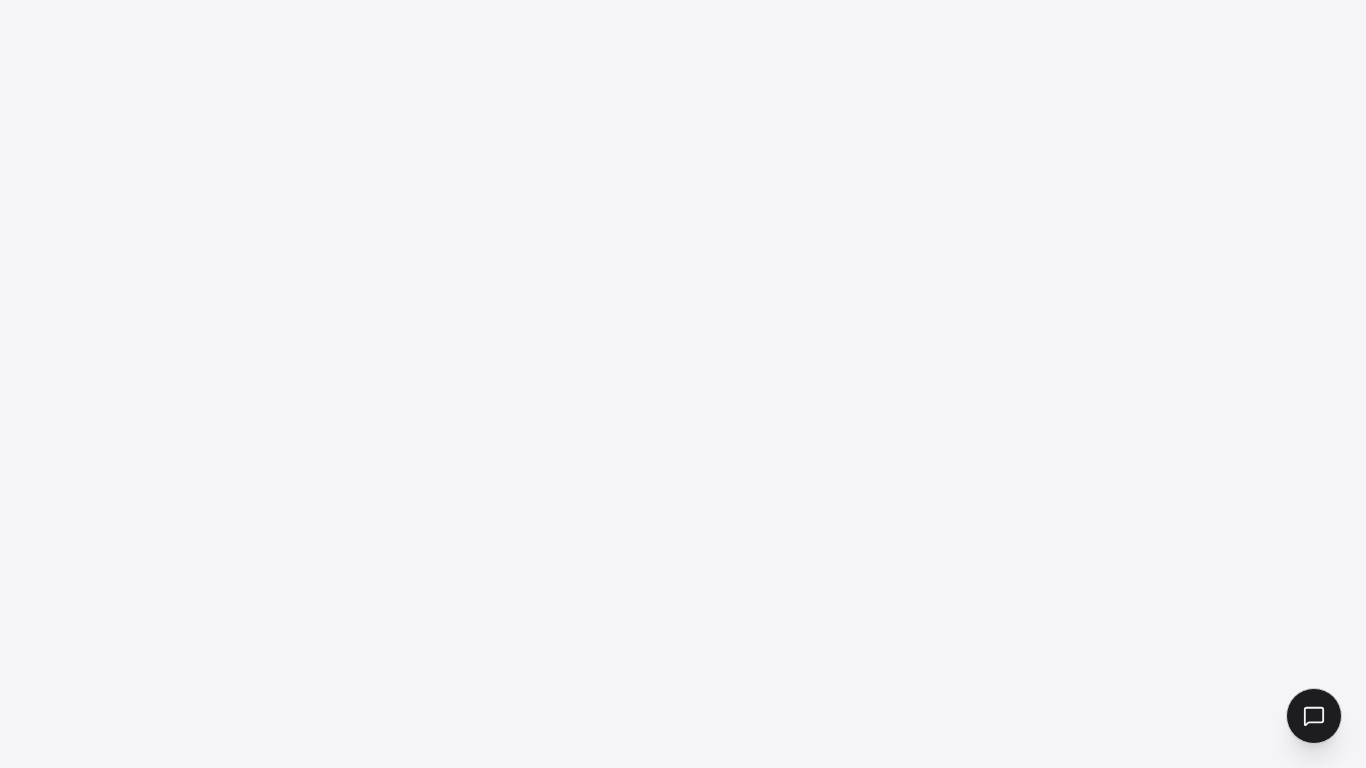
Scenario: AssistantBubble › closes on Escape
The width and height of the screenshot is (1366, 768).
Click the button named "Ask Anvesh" at (1314, 716), box [1286, 688, 1342, 744]
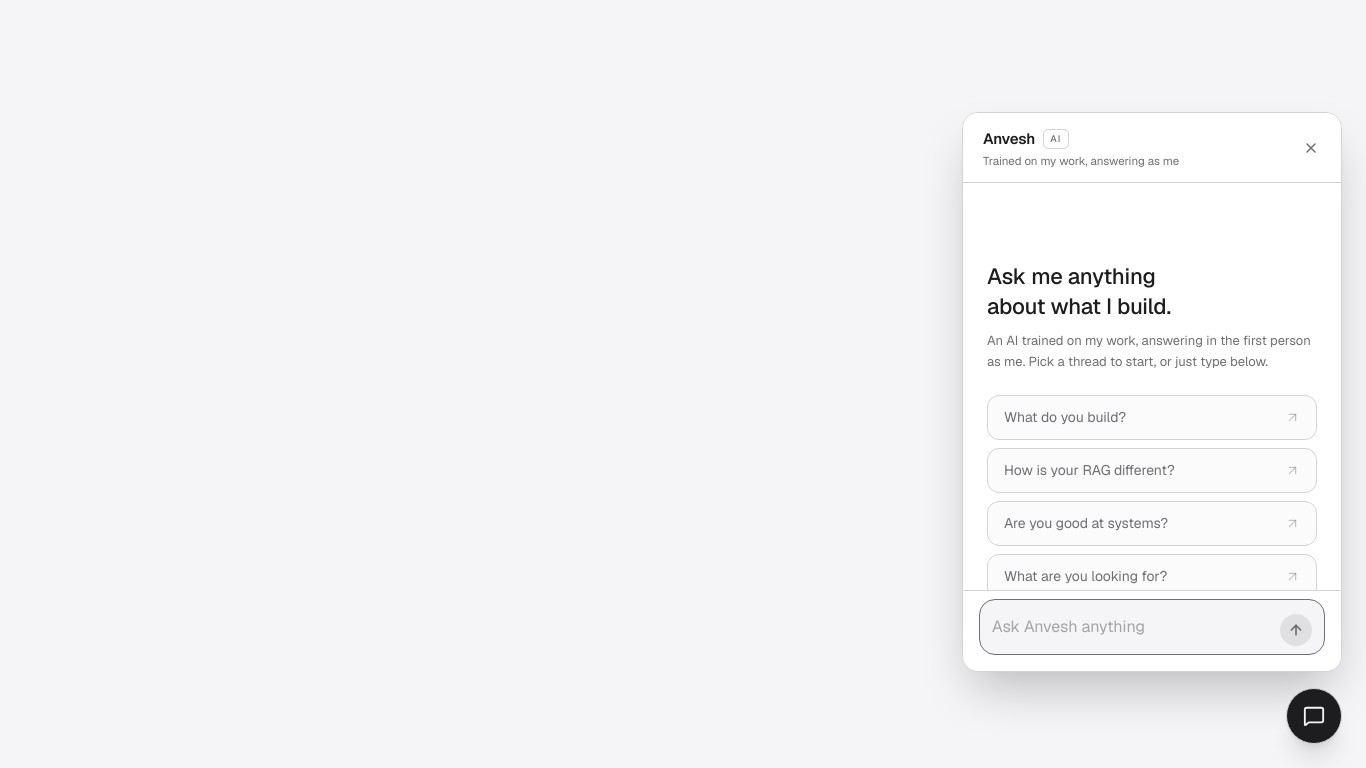
Check: the text "Ask me anything about what I build." is shown, box [987, 262, 1171, 320]
Press Escape
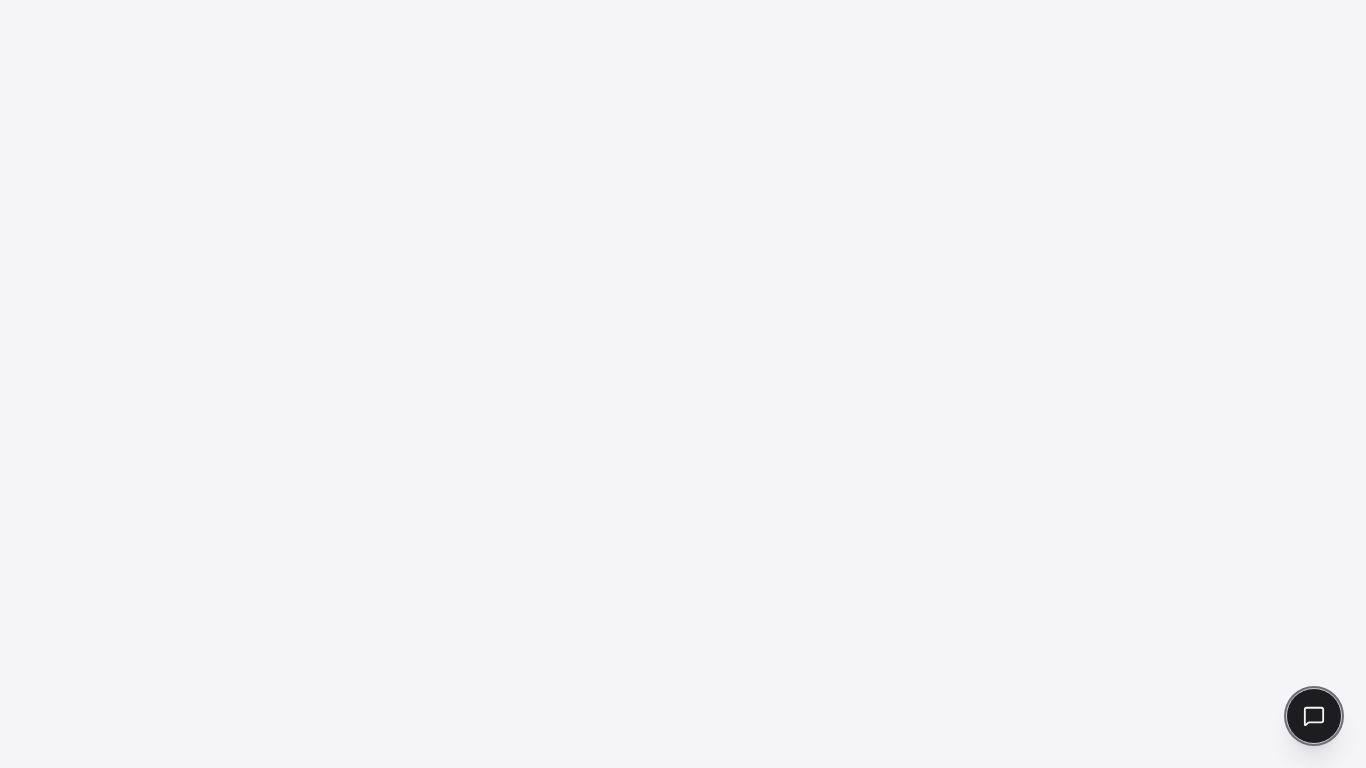
Check: the text "Ask me anything about what I build." is gone
Check: the button named "Ask Anvesh" is collapsed, box [1286, 688, 1342, 744]
